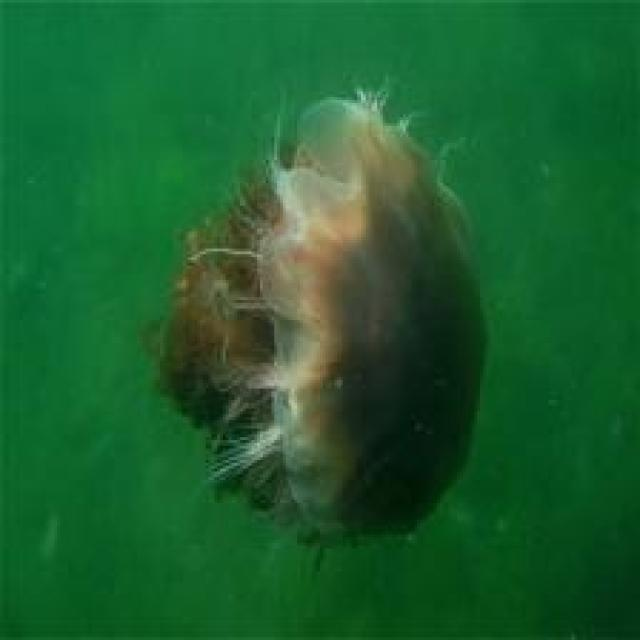Box-jellyfish: (152, 83, 488, 554)
